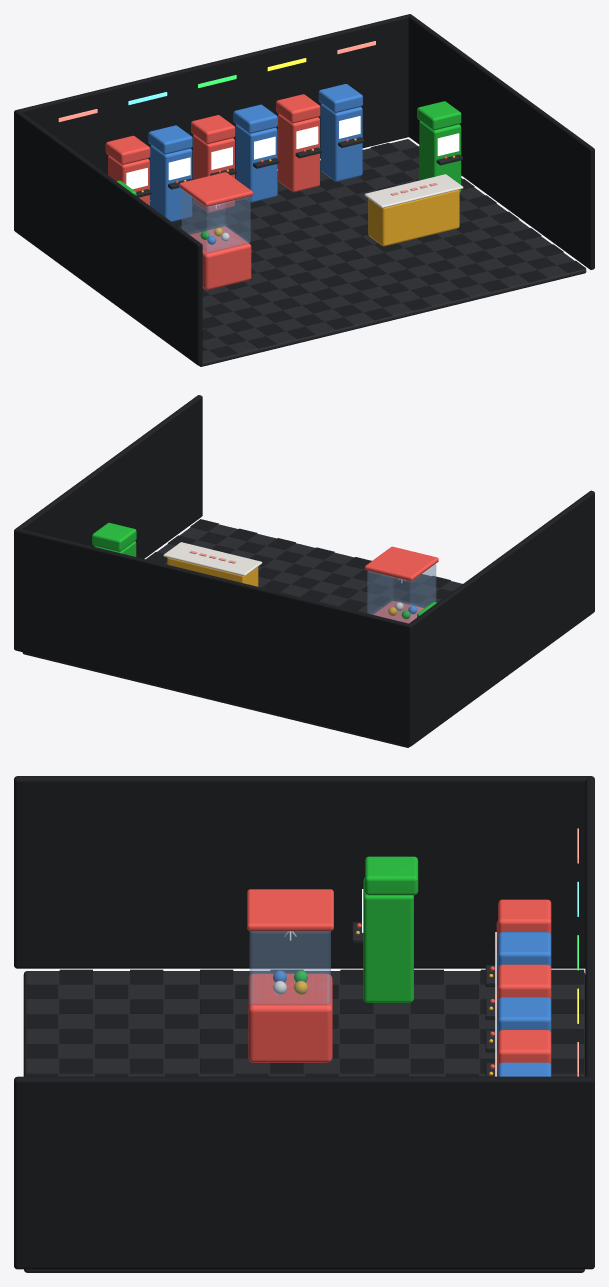
The model's file is retro_arcade.glb.
The picture shows the model from 3 angles, top to bottom: view 1: azimuth 30°, elevation 25°; view 2: azimuth 150°, elevation 25°; view 3: azimuth 270°, elevation 25°; orthographic projection. The views are drawn at different scales.
Parts seen in each view (by area): view 1: Set, Flat_001, Part_206, Part_199, Part_192, Part_178, Part_213, Part_185, Part_172, Part_200, Part_193, Part_214 (+5 smaller); view 2: Set, Flat_001, Part_214; view 3: Set, Flat_001, Part_220, Part_221, Part_186, Part_172, Part_193, Part_179, Part_200, Part_207.
Part boxes in pixels (x1,y1,x2,y2): Set: [14, 14, 594, 365]; Flat_001: [178, 139, 586, 366]; Part_206: [320, 103, 362, 181]; Part_199: [278, 114, 319, 192]; Part_192: [235, 124, 277, 202]; Part_178: [150, 145, 192, 221]; Part_213: [419, 121, 461, 192]; Part_185: [193, 135, 234, 212]; Part_172: [105, 135, 150, 164]; Part_200: [276, 94, 320, 123]; Part_193: [233, 104, 277, 133]; Part_214: [417, 101, 461, 130]; Set: [14, 395, 594, 746]; Flat_001: [22, 524, 462, 747]; Part_214: [92, 522, 136, 551]; Set: [14, 776, 594, 1269]; Flat_001: [23, 971, 585, 1272]; Part_220: [363, 877, 413, 1002]; Part_221: [365, 856, 418, 895]; Part_186: [498, 964, 551, 999]; Part_172: [498, 899, 551, 934]; Part_193: [498, 997, 551, 1032]; Part_179: [498, 932, 551, 966]; Part_200: [498, 1030, 551, 1064]; Part_207: [498, 1062, 551, 1076].
Size of the model in its own units: 10.28 by 3.12 by 8.28.
